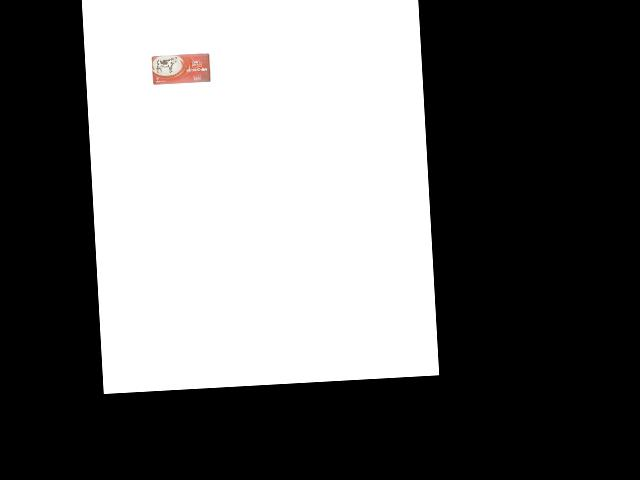chocolate: (151, 53, 212, 86)
